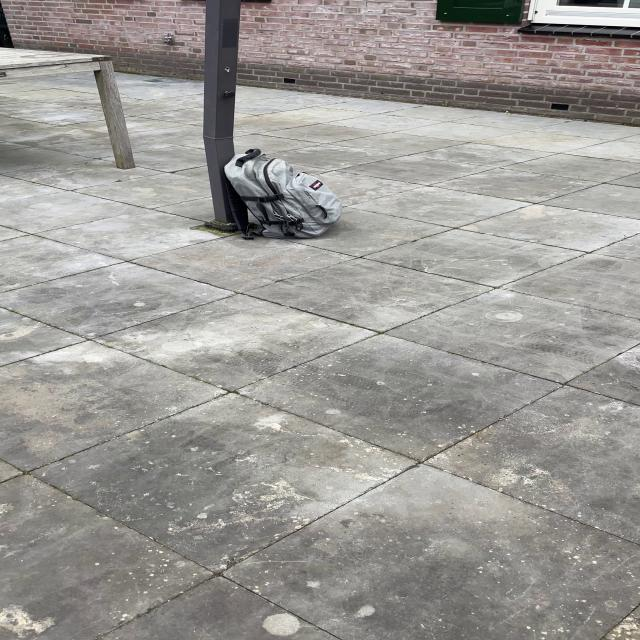backpack: (216, 147, 350, 242)
